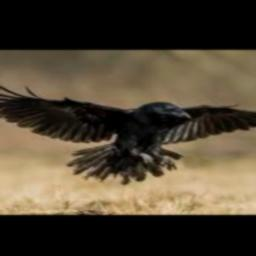Crow: (0, 79, 256, 184)
